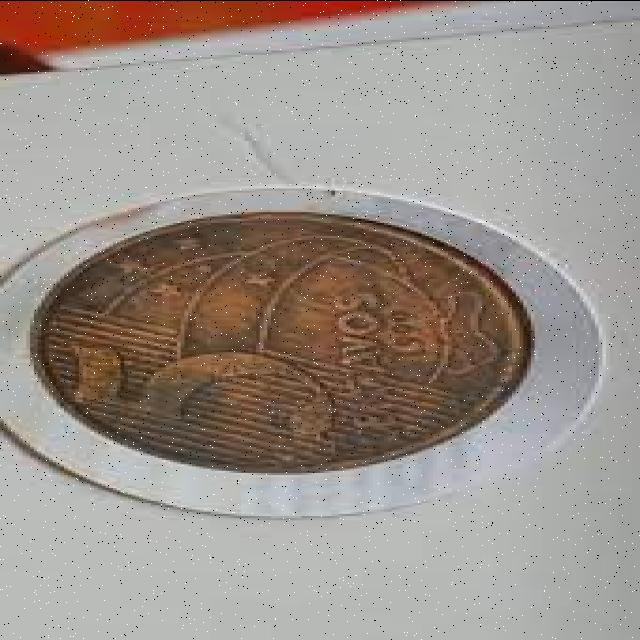5 cent: (29, 214, 525, 474)
